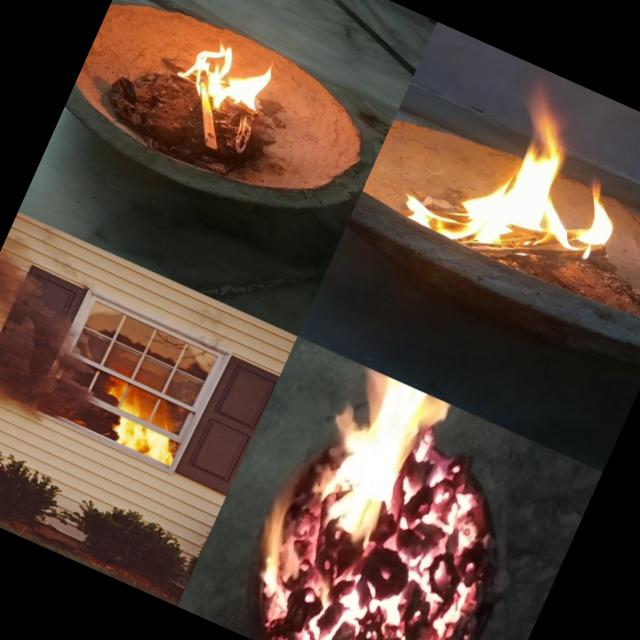fire: (205, 349, 453, 640), (398, 70, 640, 305), (334, 446, 541, 640), (166, 18, 285, 128), (93, 370, 196, 470)
smoke: (23, 345, 120, 445), (0, 270, 84, 351), (0, 310, 53, 415), (0, 226, 57, 290)
